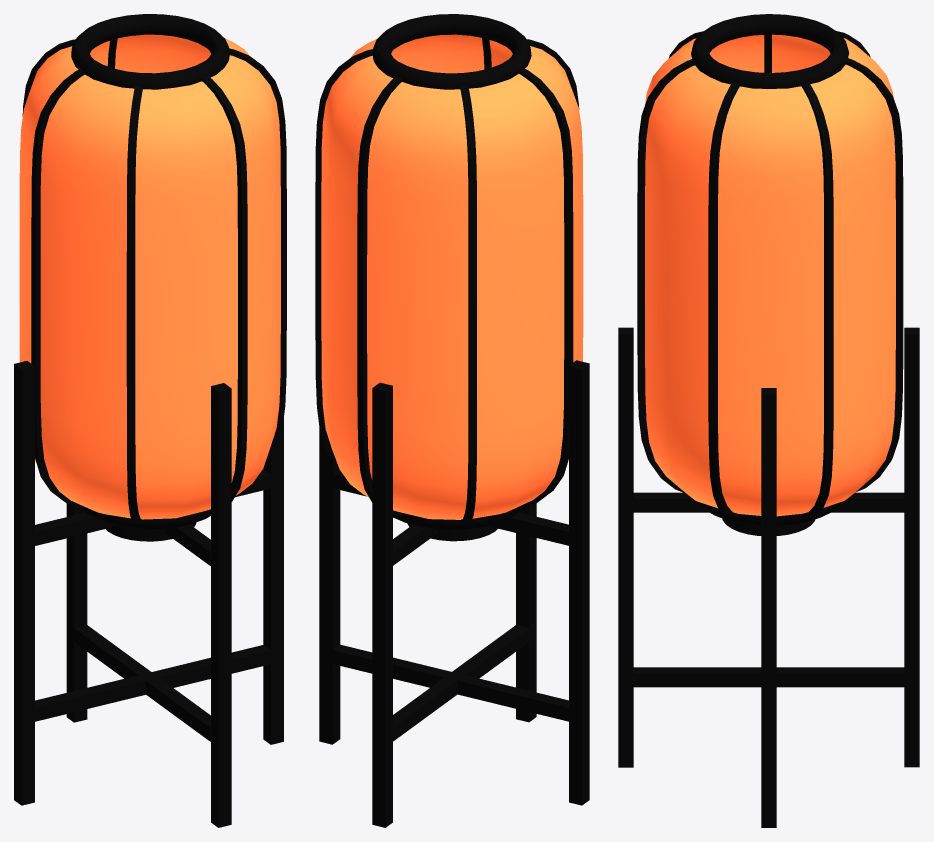
3 renders of one model, left to right at view 1: azimuth 30°, elevation 25°; view 2: azimuth 150°, elevation 25°; view 3: azimuth 270°, elevation 25°, orthographic.
Parts seen in each view (by area): view 1: ST-灯笼2; view 2: ST-灯笼2; view 3: ST-灯笼2.
Boxes of the visible parts, bbox=[...] form: ST-灯笼2: bbox=[14, 14, 286, 827]; ST-灯笼2: bbox=[315, 14, 589, 827]; ST-灯笼2: bbox=[618, 14, 919, 827].
Size of the model in its own units: 0.3193 by 0.3194 by 0.8436.
